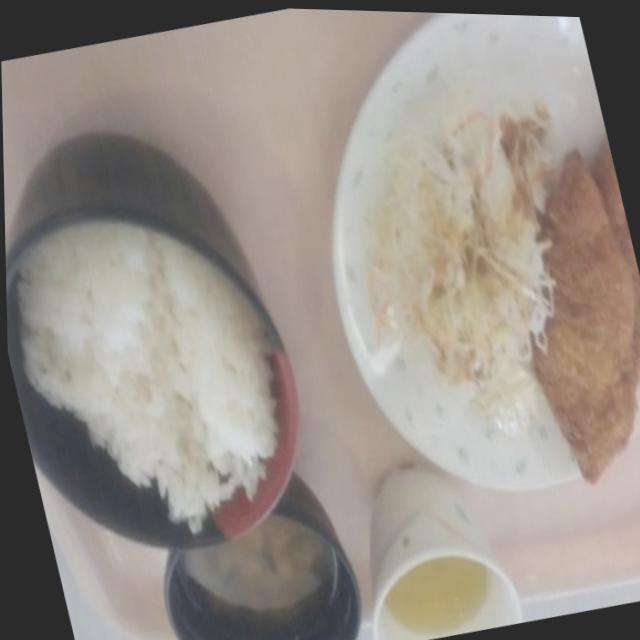汤锅炖物: (134, 467, 379, 640)
炸货点心: (474, 114, 640, 501)
熟制海鲜: (474, 114, 640, 501)
米饭主食: (2, 104, 335, 592)
蔬菜料理: (324, 60, 622, 450)
